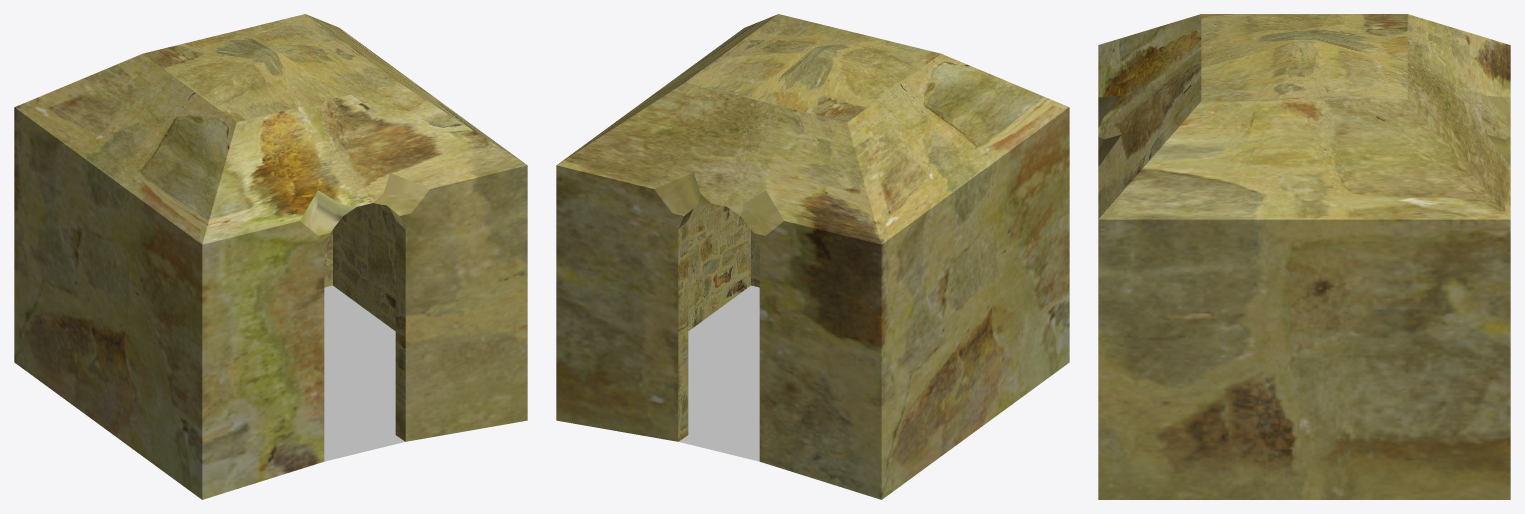
File: cell-1-straight.fbx
3 renders of one model, left to right at view 1: azimuth 30°, elevation 25°; view 2: azimuth 150°, elevation 25°; view 3: azimuth 270°, elevation 25°, orthographic. The views are drawn at different scales.
Visible parts, largest first — view 1: cell-straight; view 2: cell-straight; view 3: cell-straight.
Part boxes in pixels (x1,y1,x2,y2): cell-straight: [14, 14, 527, 499]; cell-straight: [556, 14, 1069, 499]; cell-straight: [1098, 14, 1510, 499].
Size of the model in its own units: 400 by 400 by 400.
